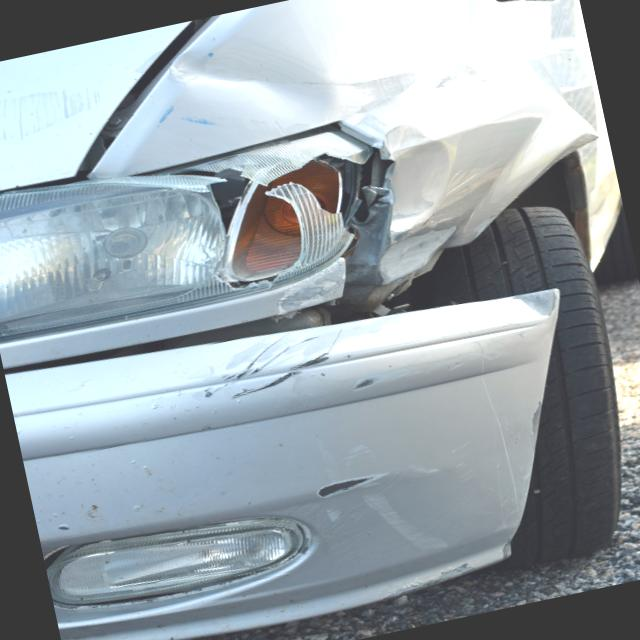Dechirure: (0, 237, 562, 446)
Phare abime: (176, 118, 391, 309)
Rayure: (188, 319, 358, 426), (289, 462, 381, 505)
